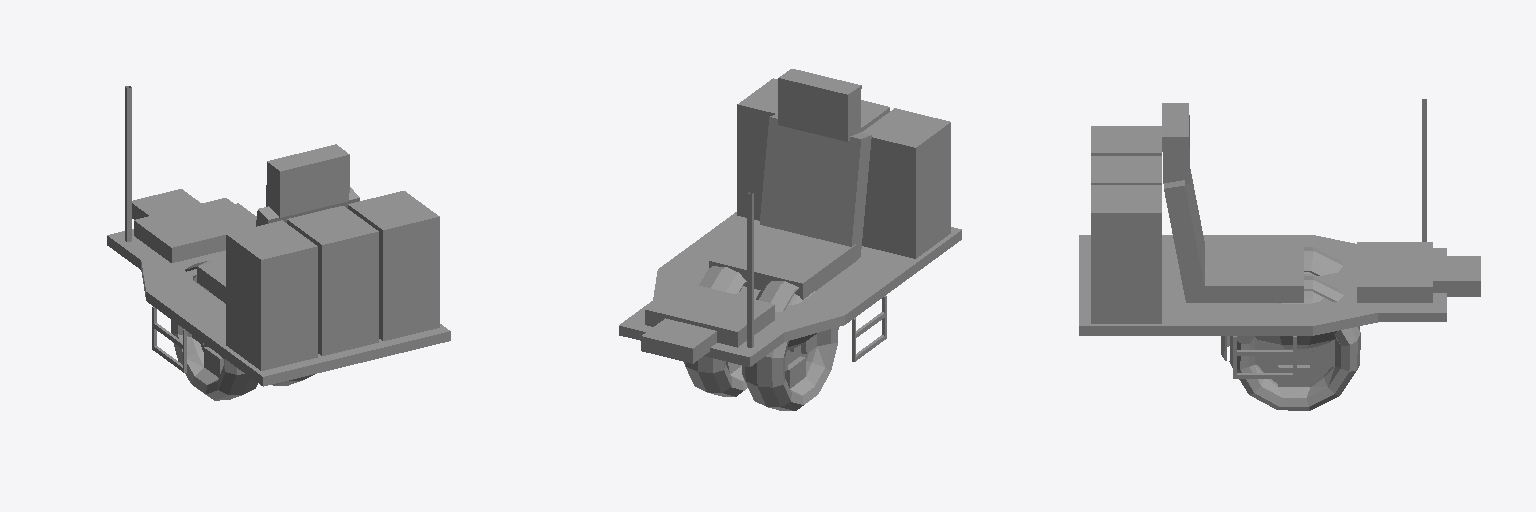
The model's file is buggy.obj.
The picture shows the model from 3 angles: view 1: azimuth 30°, elevation 25°; view 2: azimuth 150°, elevation 25°; view 3: azimuth 270°, elevation 25°; orthographic projection.
Visible parts, largest first — view 1: MainBody, CargoLeft, CargoMid, CargoRight, Wheel_Left; view 2: MainBody, CargoLeft, Wheel_Left, CargoRight, Wheel_Right, Wheel_Right_Cover, Wheel_Left_Cover, CargoMid; view 3: MainBody, CargoRight, Wheel_Right, CargoLeft, CargoMid, RadarDish_Dish, Wheel_Left_Cover, Wheel_Right_Cover.
Part boxes in pixels (x1,y1,x2,y2): MainBody: (107, 86, 450, 386); CargoLeft: (226, 220, 317, 370); CargoMid: (287, 206, 378, 355); CargoRight: (348, 191, 439, 340); Wheel_Left: (171, 275, 257, 400); MainBody: (619, 69, 961, 366); CargoLeft: (862, 108, 950, 258); Wheel_Left: (742, 291, 837, 410); CargoRight: (737, 78, 777, 220); Wheel_Right: (684, 356, 747, 396); Wheel_Right_Cover: (699, 266, 746, 293); Wheel_Left_Cover: (756, 281, 838, 329); CargoMid: (861, 100, 889, 131); MainBody: (1079, 99, 1480, 378); CargoRight: (1091, 185, 1161, 323); Wheel_Right: (1229, 291, 1360, 410); CargoLeft: (1091, 126, 1161, 155); CargoMid: (1091, 156, 1161, 184); RadarDish_Dish: (1254, 331, 1336, 348); Wheel_Left_Cover: (1304, 247, 1343, 275); Wheel_Right_Cover: (1221, 276, 1343, 360).
Size of the model in its own units: 4.06 by 5.56 by 7.44.